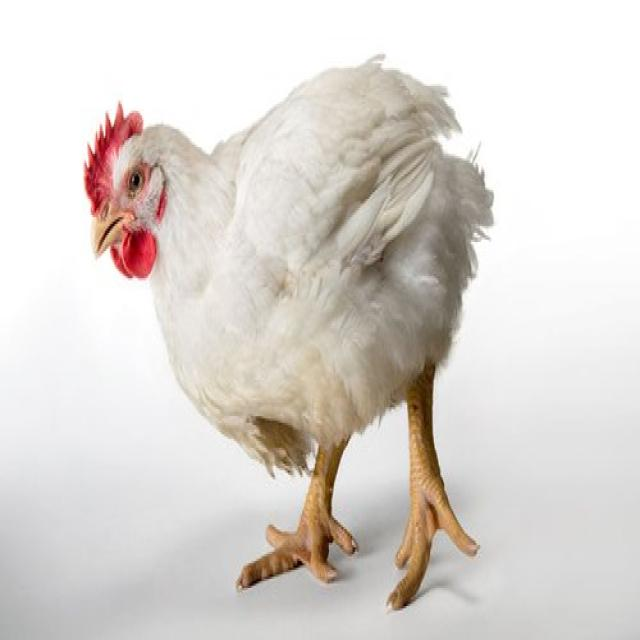Healthy: (83, 57, 494, 606)
